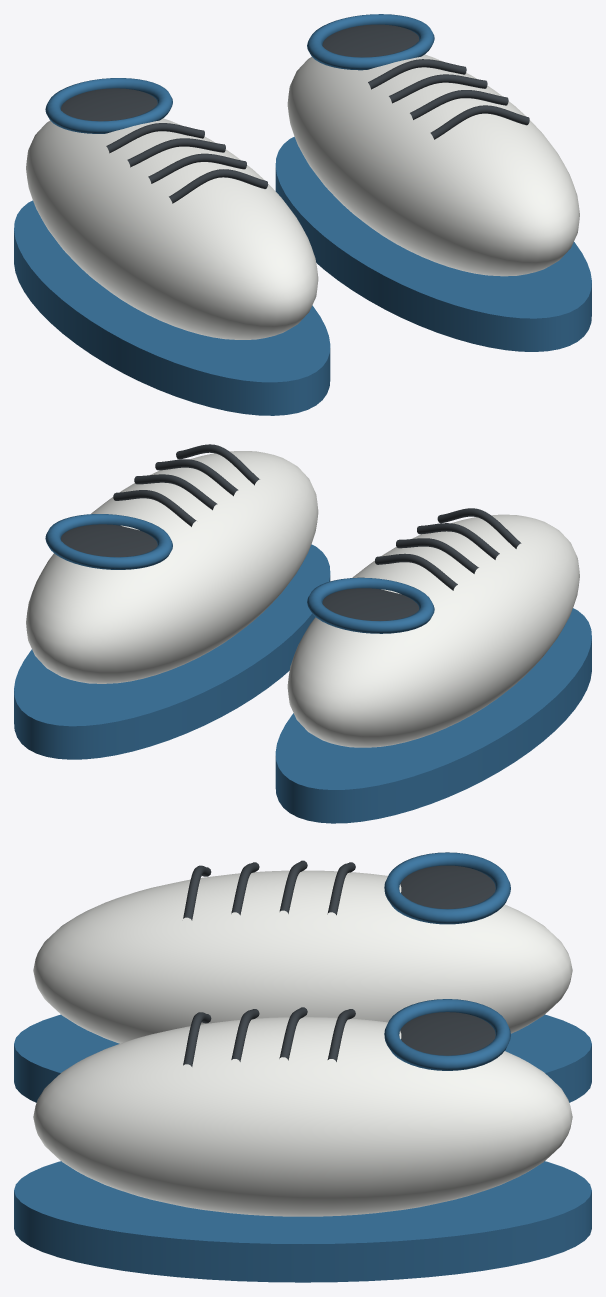
The model's file is fencing-club-and-tournament-piste-shoe-pair-99a417ac__31247.glb.
3 views of the same model, one above another, from view 1: azimuth 30°, elevation 25°; view 2: azimuth 150°, elevation 25°; view 3: azimuth 270°, elevation 25° (orthographic). The views are drawn at different scales.
Visible parts, largest first — view 1: shoe-pair; view 2: shoe-pair; view 3: shoe-pair.
Part boxes in pixels (left/top/right/bottom): shoe-pair: left=14, top=14, right=591, bottom=415; shoe-pair: left=14, top=444, right=591, bottom=823; shoe-pair: left=14, top=852, right=591, bottom=1282.
Bounding box in the file's own units: 0.312 × 0.1214 × 0.3.
